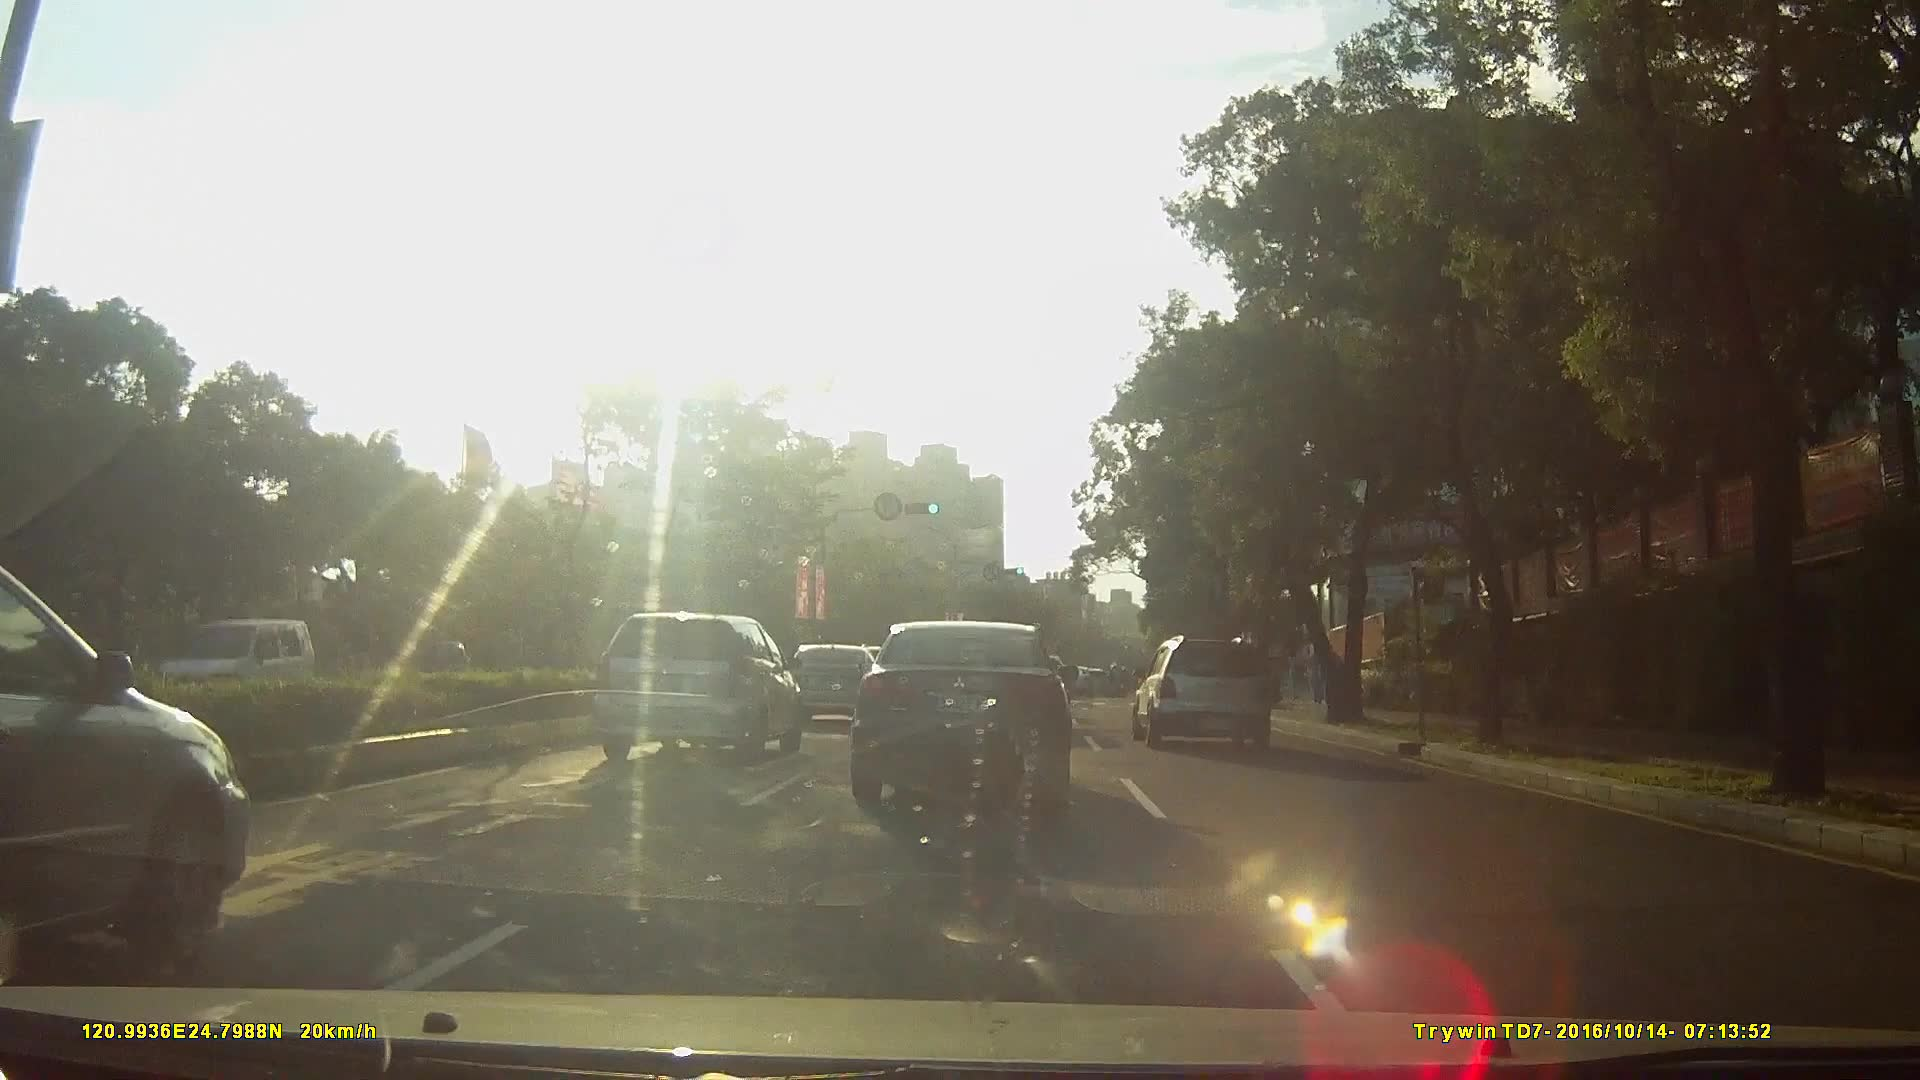vehicle: (1, 551, 276, 993), (851, 613, 1076, 815), (584, 607, 799, 760), (1131, 626, 1288, 744), (112, 611, 276, 712), (778, 640, 891, 723), (1073, 661, 1108, 692)
